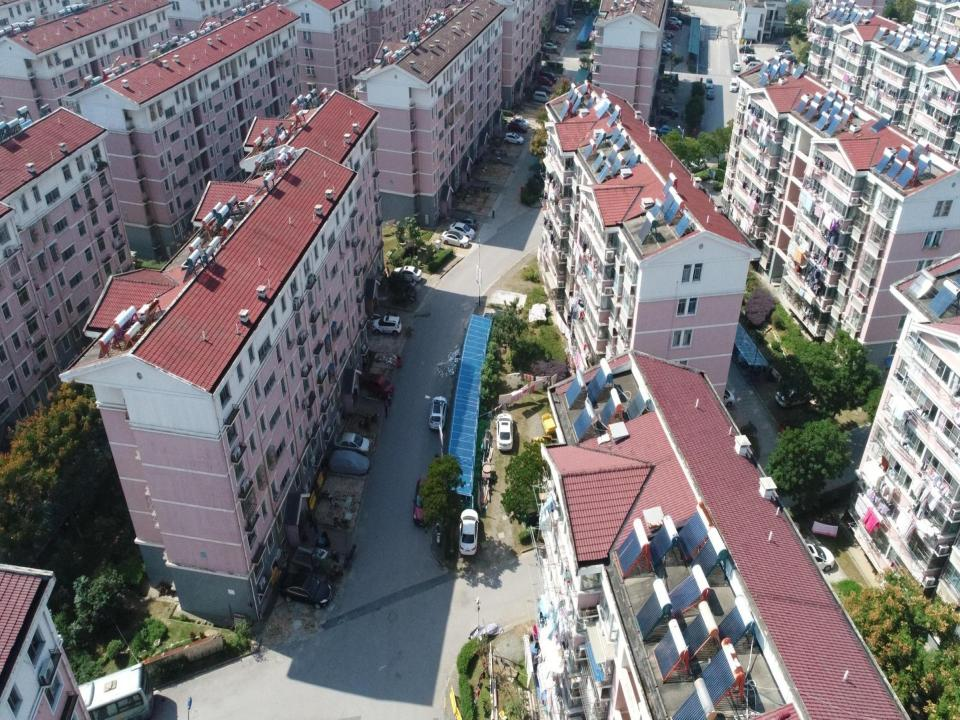car: (75, 662, 158, 718), (278, 570, 331, 608), (329, 449, 369, 475), (459, 508, 479, 556), (360, 371, 394, 399), (412, 476, 431, 526), (334, 432, 370, 456), (805, 544, 835, 572), (496, 413, 514, 452), (428, 395, 448, 430), (775, 387, 808, 407), (373, 315, 402, 336), (441, 228, 469, 247), (391, 265, 422, 281), (450, 222, 475, 239), (502, 132, 524, 145), (659, 106, 678, 120), (510, 116, 530, 128), (460, 216, 478, 229), (723, 389, 736, 406), (509, 122, 527, 134), (691, 158, 707, 171), (657, 125, 677, 135), (534, 85, 552, 94), (738, 45, 756, 53), (542, 42, 557, 51), (774, 44, 791, 51), (778, 50, 794, 57), (742, 54, 760, 60), (554, 26, 569, 33), (784, 56, 797, 64), (666, 23, 678, 31), (669, 17, 681, 25), (706, 89, 714, 100), (661, 45, 672, 53), (705, 77, 712, 89), (746, 57, 760, 63), (561, 18, 571, 26), (733, 61, 741, 71), (663, 40, 671, 47), (782, 38, 790, 45), (661, 49, 670, 55), (663, 30, 673, 35), (663, 37, 671, 43), (663, 34, 672, 38)
van: (538, 70, 557, 83), (534, 90, 549, 104), (746, 62, 762, 70), (538, 77, 552, 86), (730, 77, 737, 93), (566, 18, 575, 25)
